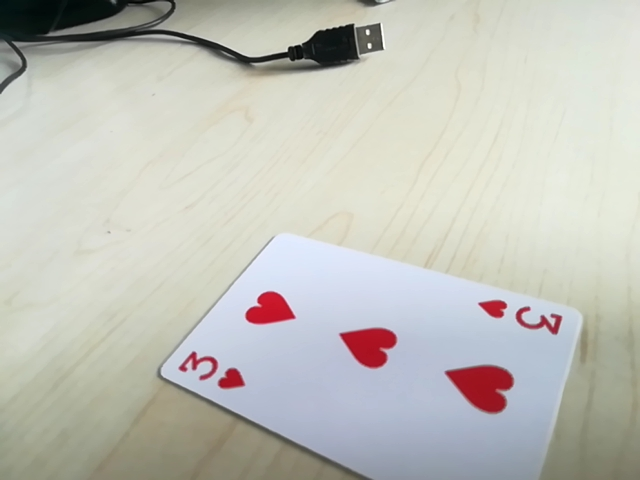hx 3: (476, 295, 571, 338), (168, 347, 250, 396)
